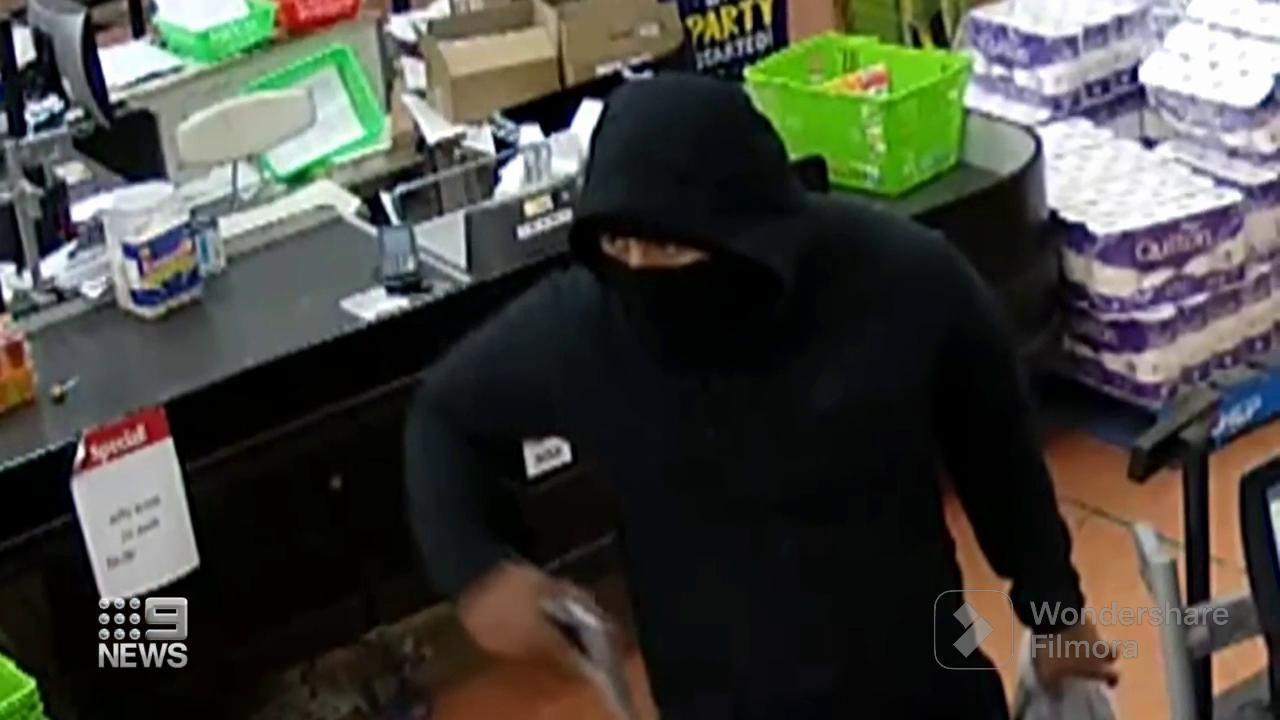gun: (538, 560, 644, 720)
